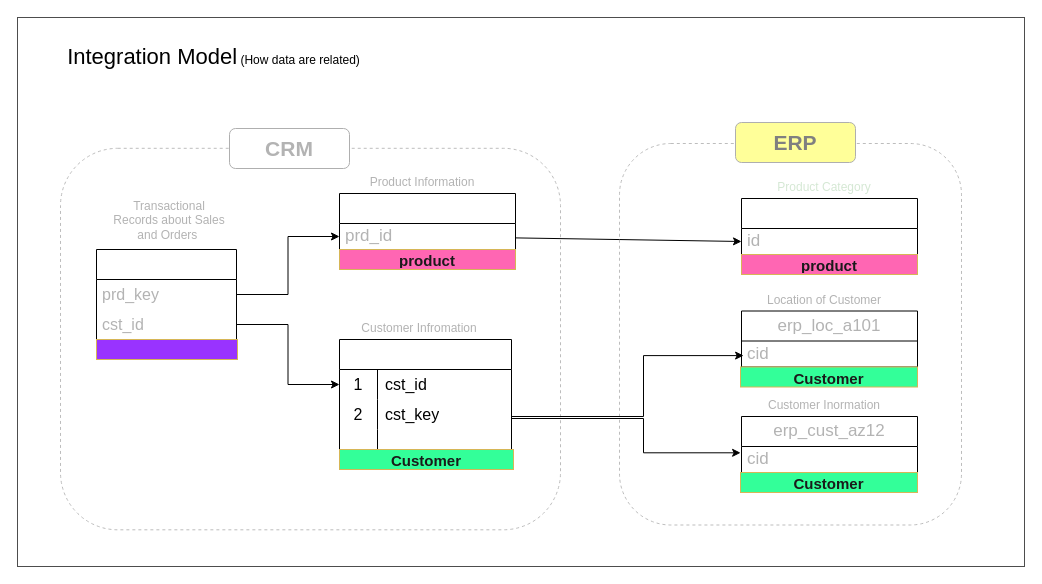
The diagram is 1042 pixels wide and 584 high, and some of its shapes have lost their labels. The shapes that lost their labels are listed below. From the top down, each one's box as (x1, y1, x2, y2) in pixels, then its label:
(338, 192, 516, 250): crm_prod_info
(740, 198, 918, 254): erp_px_cat_g1v2
(96, 248, 236, 340): crm_Sales_Details
(96, 338, 238, 360): Sales
(338, 338, 512, 450): crm_cust_info
